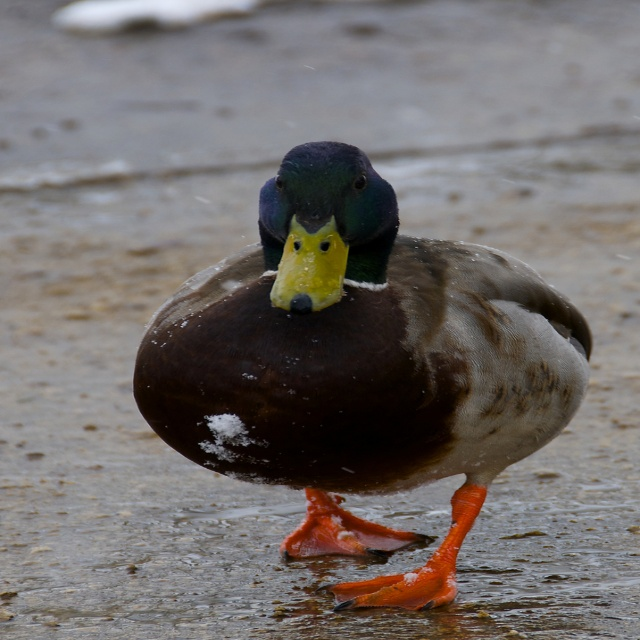Duck: (124, 149, 606, 613)
